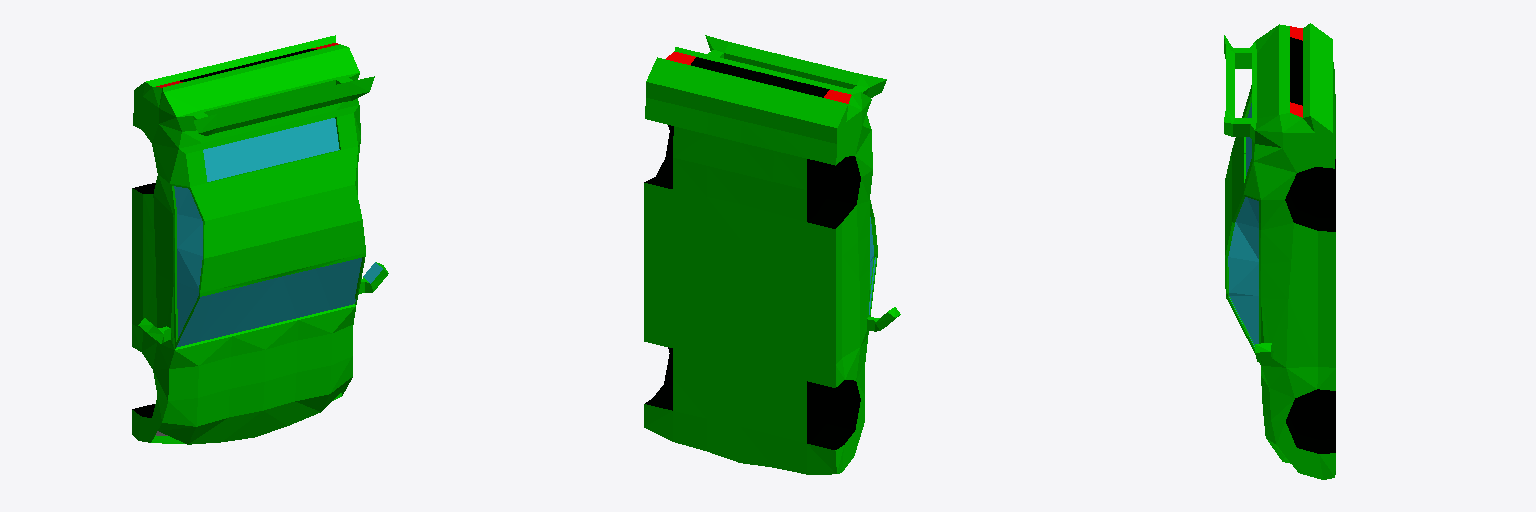
Rendered from car.obj.
3 renders of one model, left to right at view 1: azimuth 30°, elevation 25°; view 2: azimuth 150°, elevation 25°; view 3: azimuth 270°, elevation 25°, orthographic.
Visible parts, largest first — view 1: Car_Cube.001; view 2: Car_Cube.001; view 3: Car_Cube.001.
Boxes of the visible parts, <box> form: Car_Cube.001: <box>132,35,388,444</box>; Car_Cube.001: <box>644,35,900,474</box>; Car_Cube.001: <box>1224,23,1335,479</box>.
Bounding box in the file's own units: 3.02 × 4.39 × 1.2.